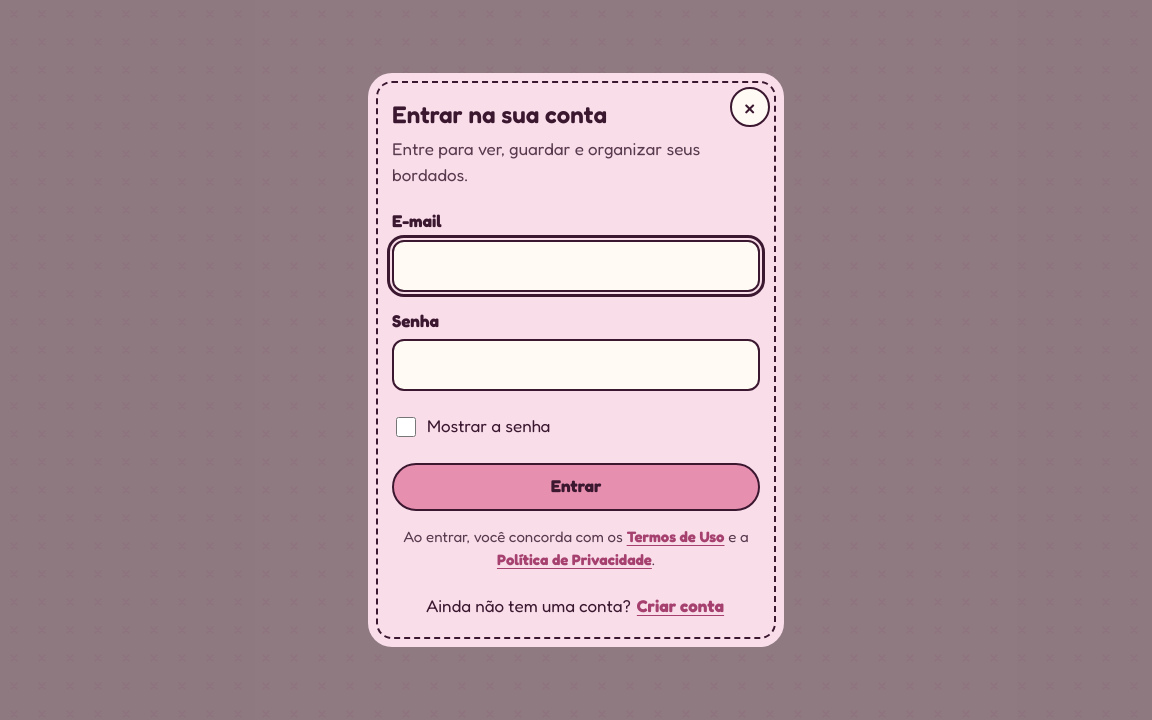
AuthDialog signing in › explains the problem in Portuguese and stays open when the server refuses
Step 1. Type "ana@exemplo.com" into the field labelled "E-mail" → (576, 266), box x1=392 y1=240 x2=760 y2=292
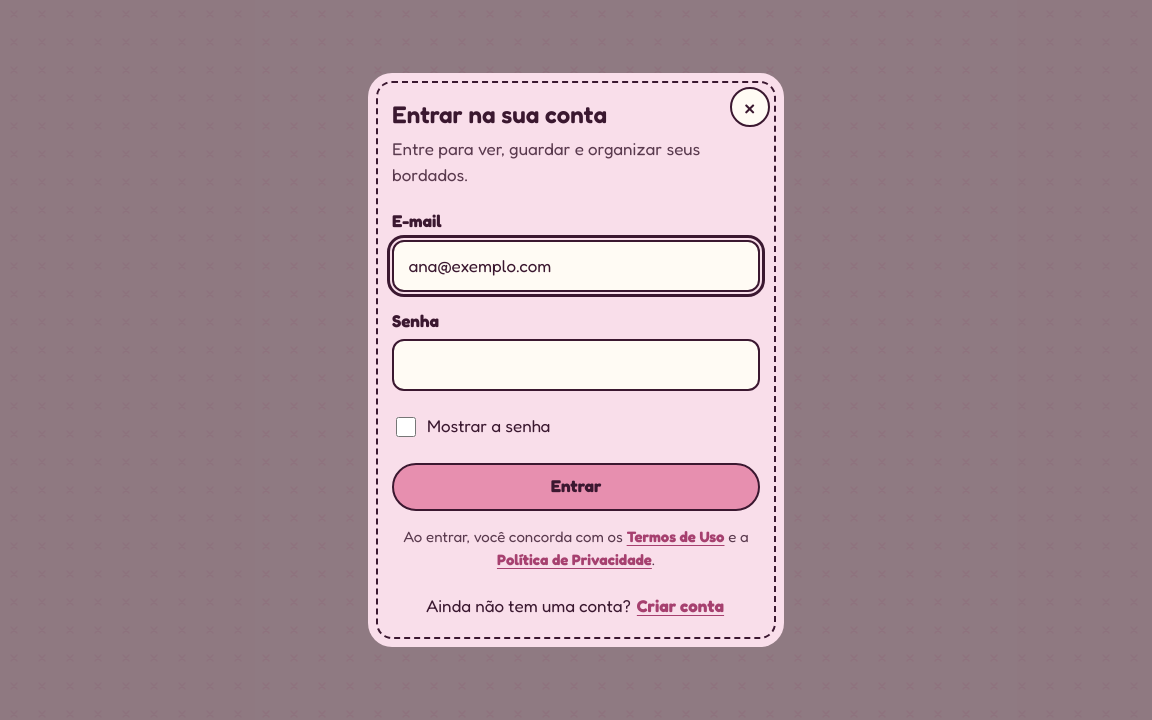
Step 2. Type "errada" into the password field labelled "Senha" → (576, 365), box x1=392 y1=340 x2=760 y2=391
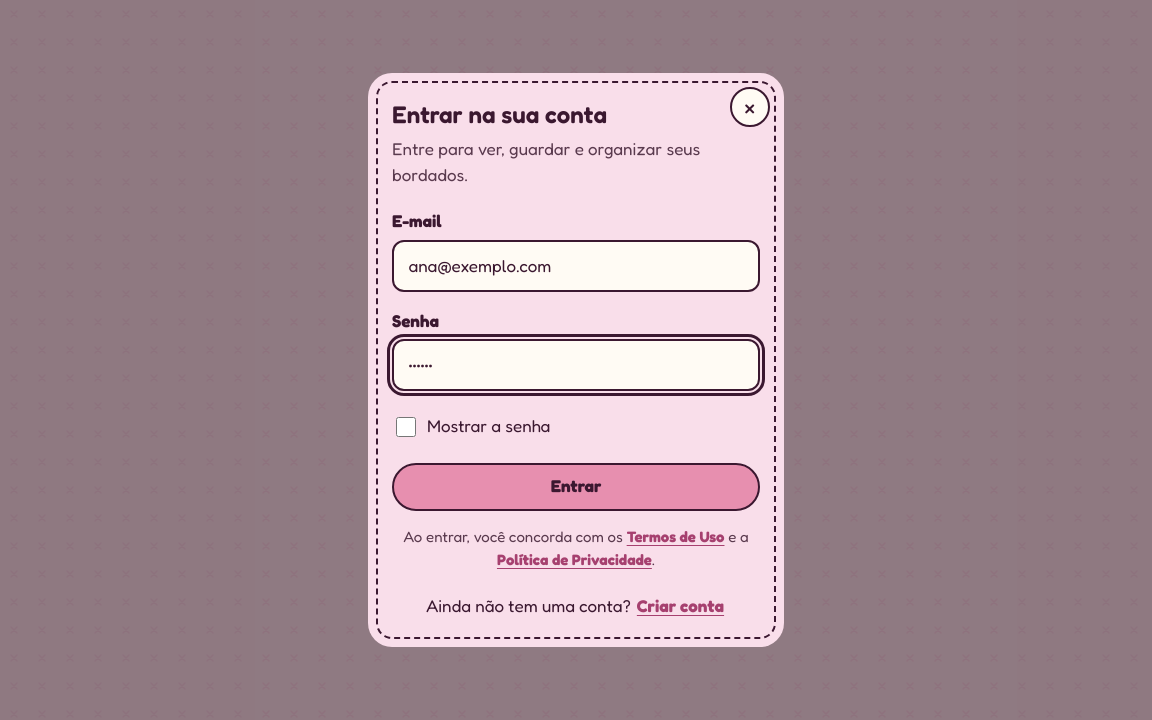
Step 3. Click the button "Entrar" → (576, 487), box x1=392 y1=463 x2=760 y2=511
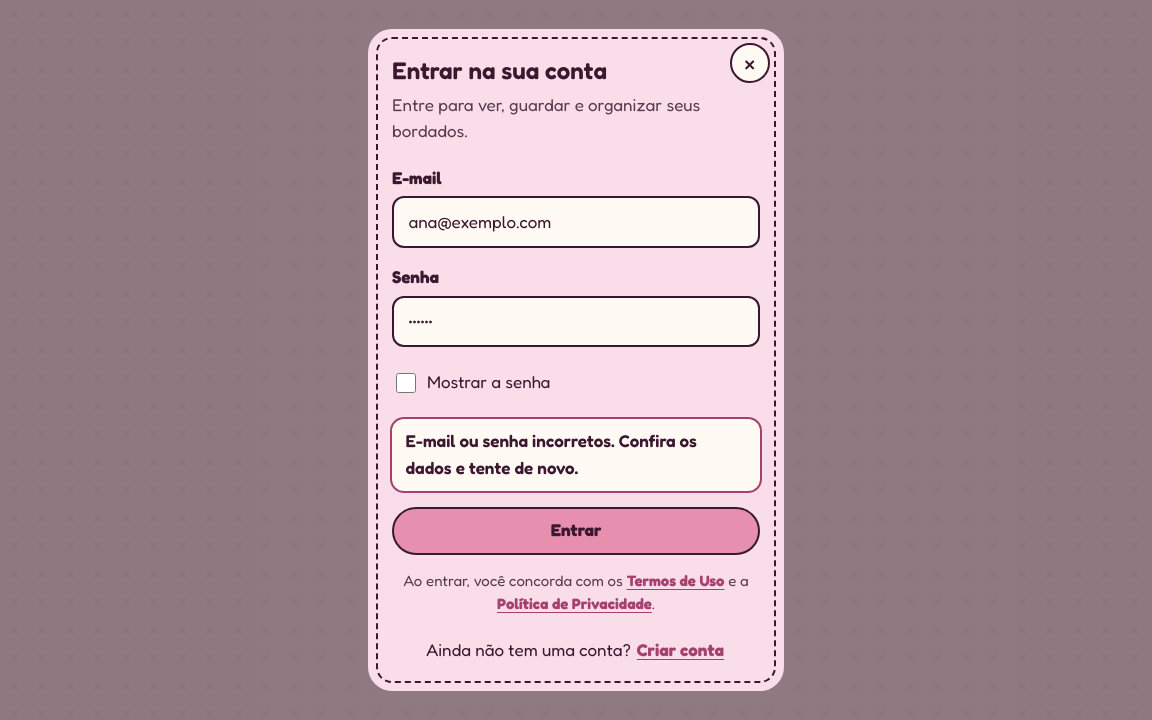
Expected: the message shows "E-mail ou senha incorretos", x1=406 y1=430 x2=697 y2=478
